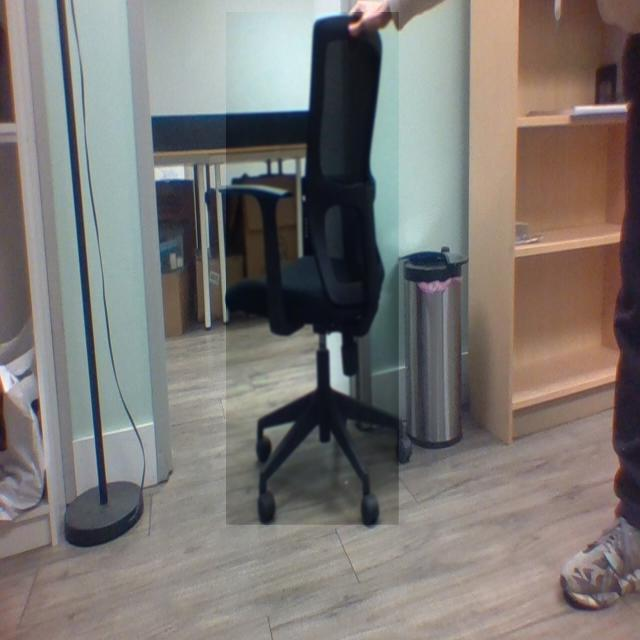chair: (227, 12, 401, 526)
